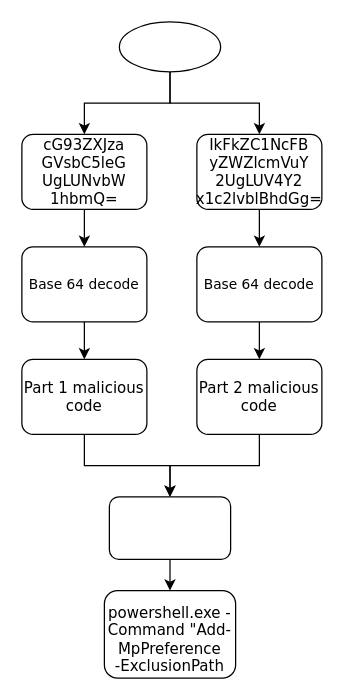
Some shapes in this 344 by 700 pixel diagram are drawn without their labels. Each missing label, with the centre of its shape:
"Reconstruct command" goes at pixel 169 527.
"start" goes at pixel 169 46.
